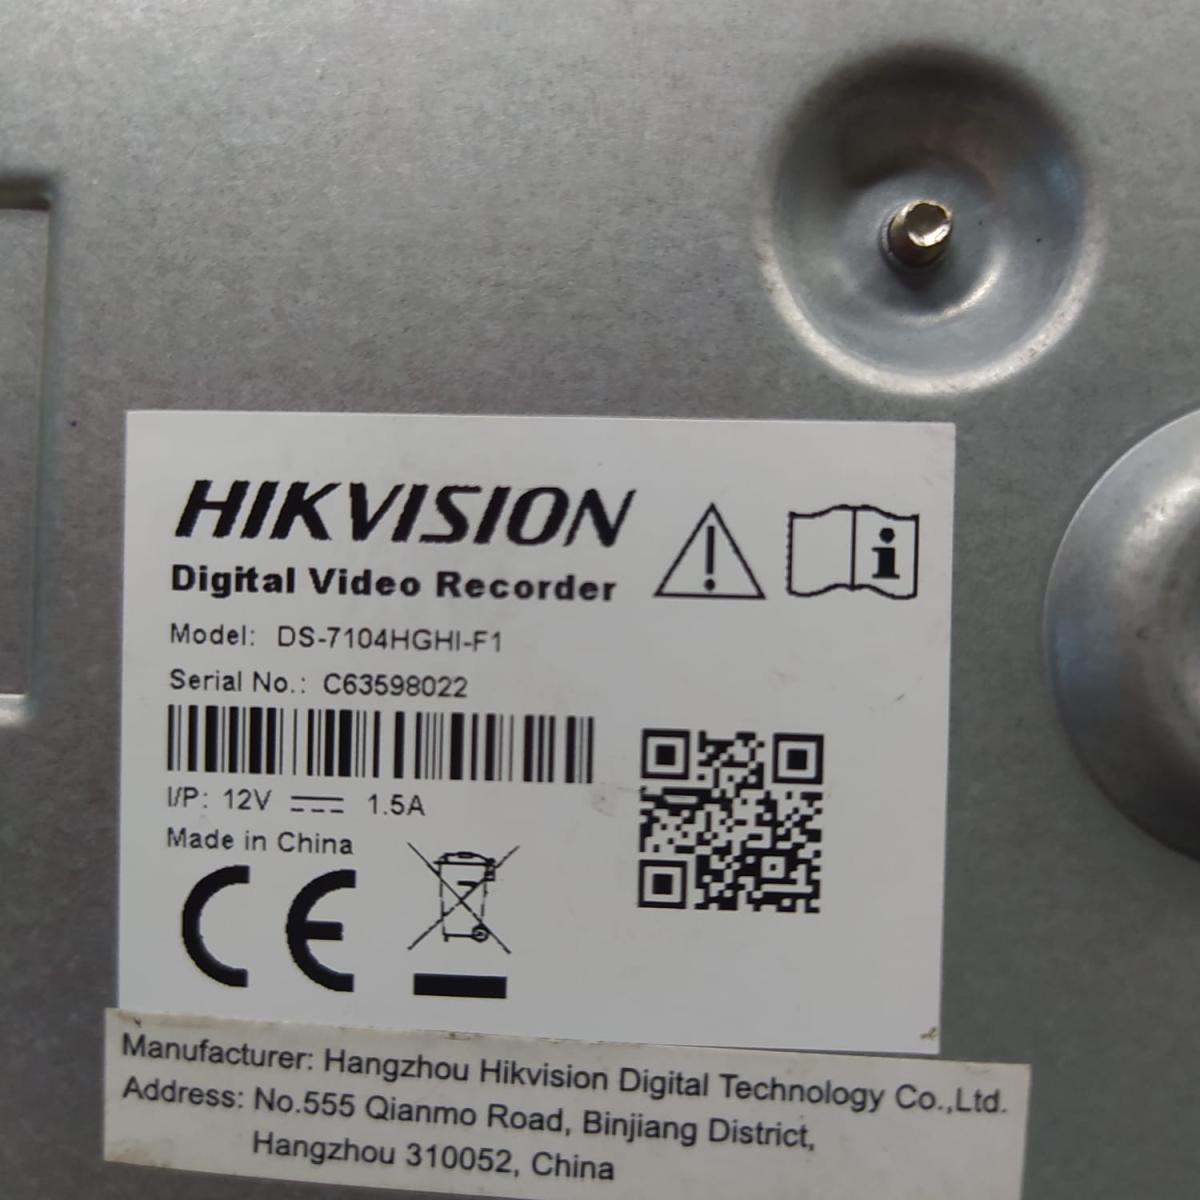Barcode: (157, 692, 607, 803)
Label: (123, 411, 951, 1052)
